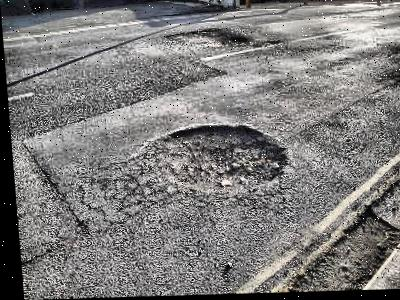pothole: (272, 207, 400, 292), (144, 122, 289, 194), (159, 25, 250, 52)
